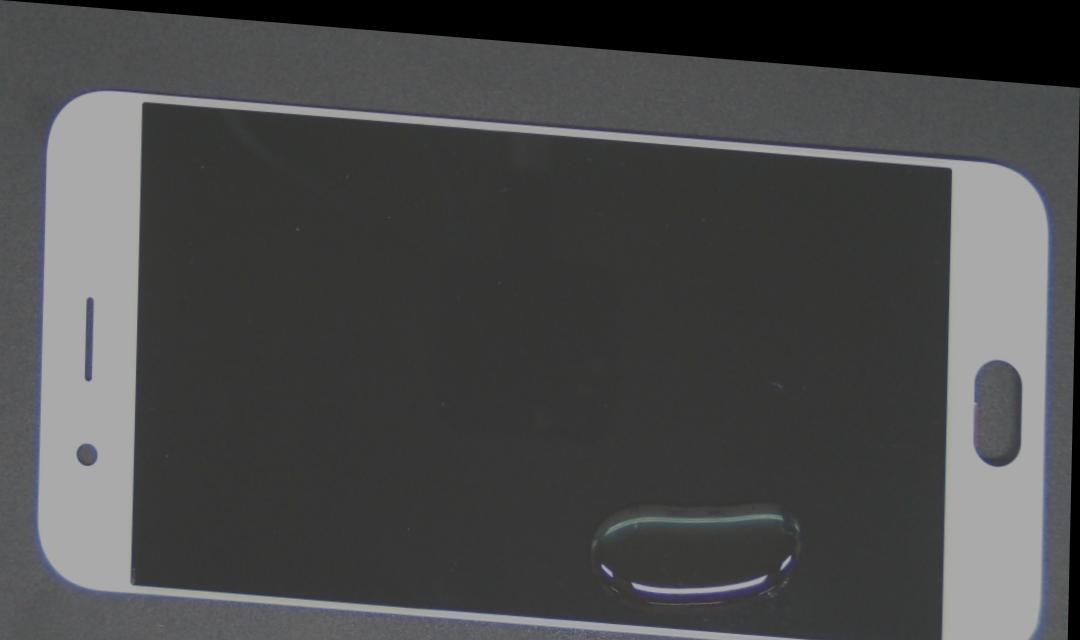oil: (548, 441, 842, 629)
